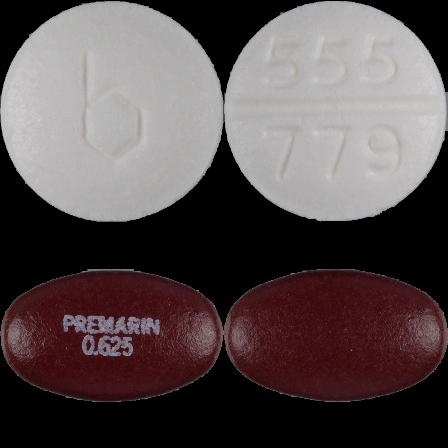50090-0166: (0, 0, 224, 224)
